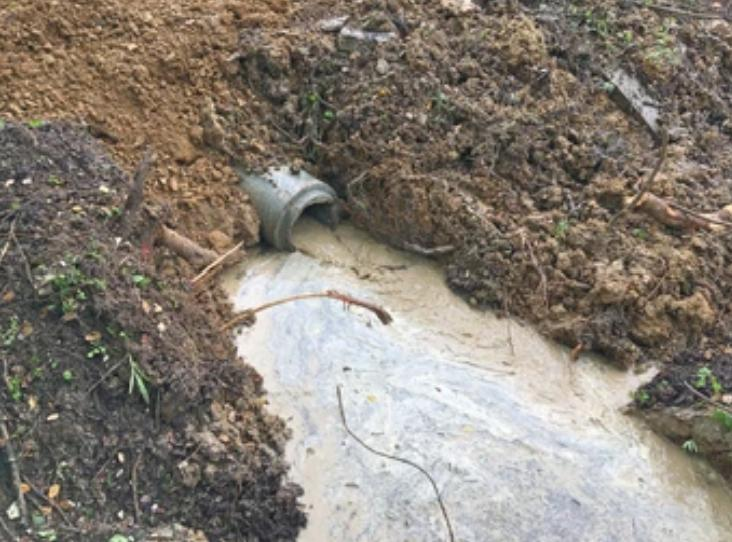water accumulation: (217, 216, 732, 542)
